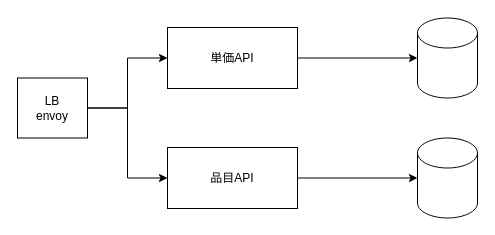
Some shapes in this 495 by 235 pixel diagram are drawn without their labels. The box of each missing label's shape, as (x1, y1, x2, y2) in pixels:
No SQL 単価API: (416, 17, 478, 98)
単価DB: (416, 137, 478, 218)
